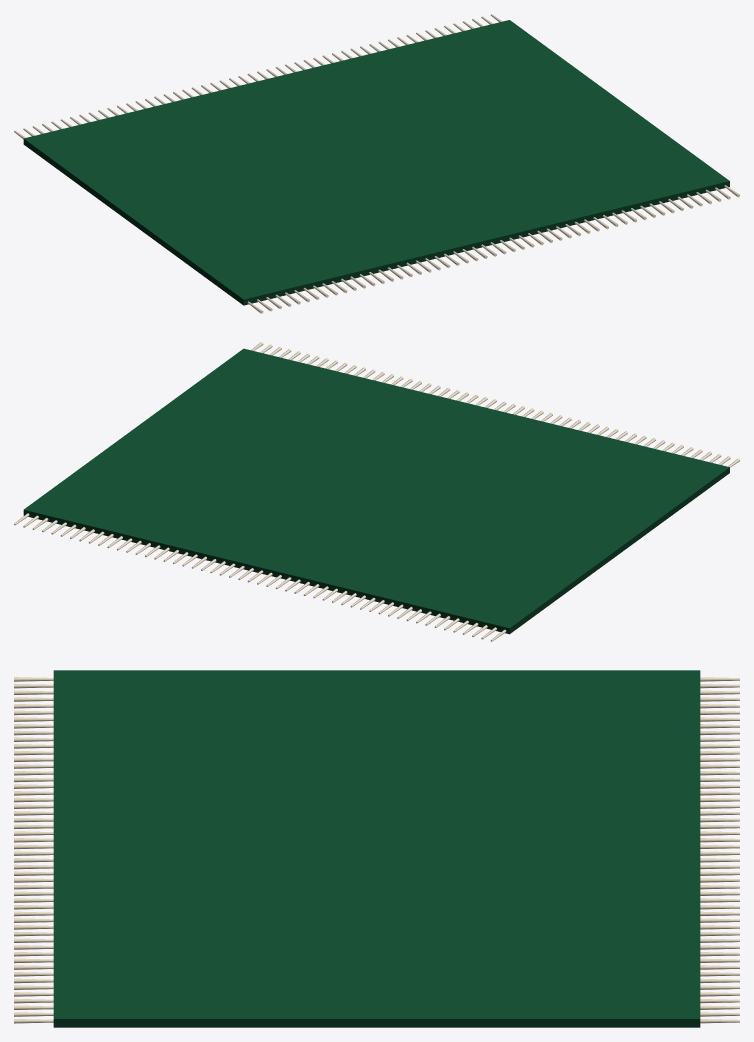
Rendered from carpet_classic.glb.
3 renders of one model, top to bottom at view 1: azimuth 30°, elevation 25°; view 2: azimuth 150°, elevation 25°; view 3: azimuth 270°, elevation 25°, orthographic. The views are drawn at different scales.
Parts seen in each view (by area): view 1: carpet; view 2: carpet; view 3: carpet.
Boxes of the visible parts, left/top/right/bottom form: carpet: left=23, top=20, right=729, bottom=305; carpet: left=23, top=348, right=729, bottom=634; carpet: left=53, top=670, right=700, bottom=1027.
Size of the model in its own units: 1.02 by 0.012 by 0.898.
